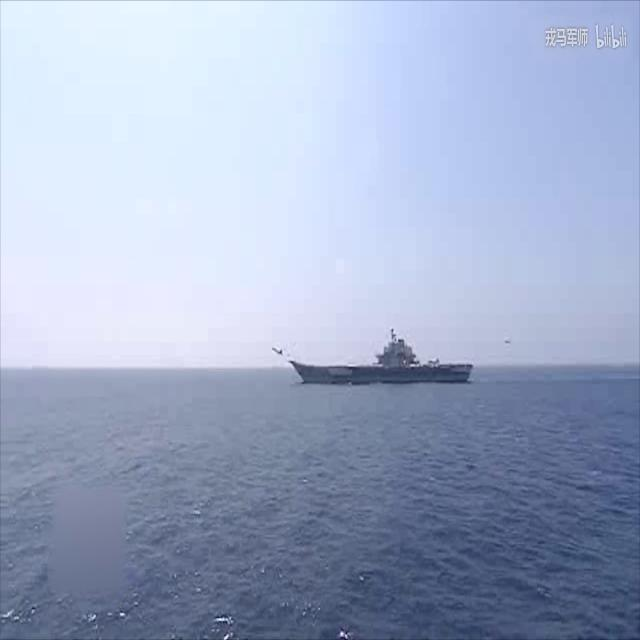navalvessels: (293, 324, 478, 391)
